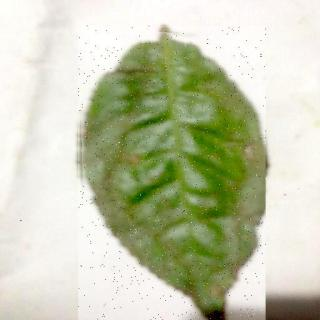Red Leaf Spot: (79, 26, 266, 320)
